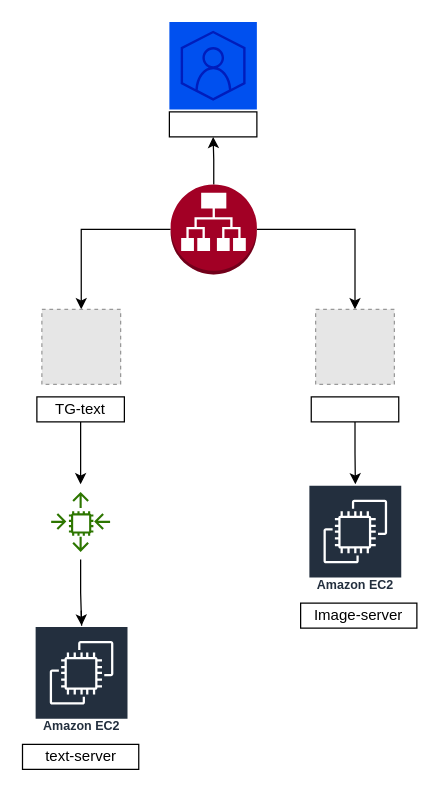
Some shapes in this 439 by 791 pixel diagram are drawn without their labels. Grey dashed boxes stand in for pictures. The box of each missing label's shape, as (x1, y1, x2, y2) in pixels:
Auto Scaling: (42, 483, 118, 559)
TG-image: (310, 396, 399, 422)
User: (168, 111, 257, 137)
